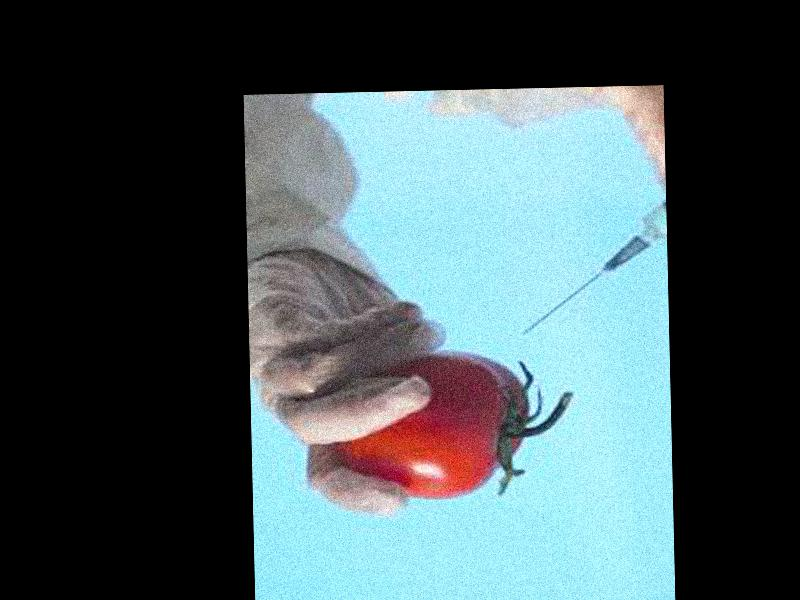Tomato: (334, 352, 530, 502)
